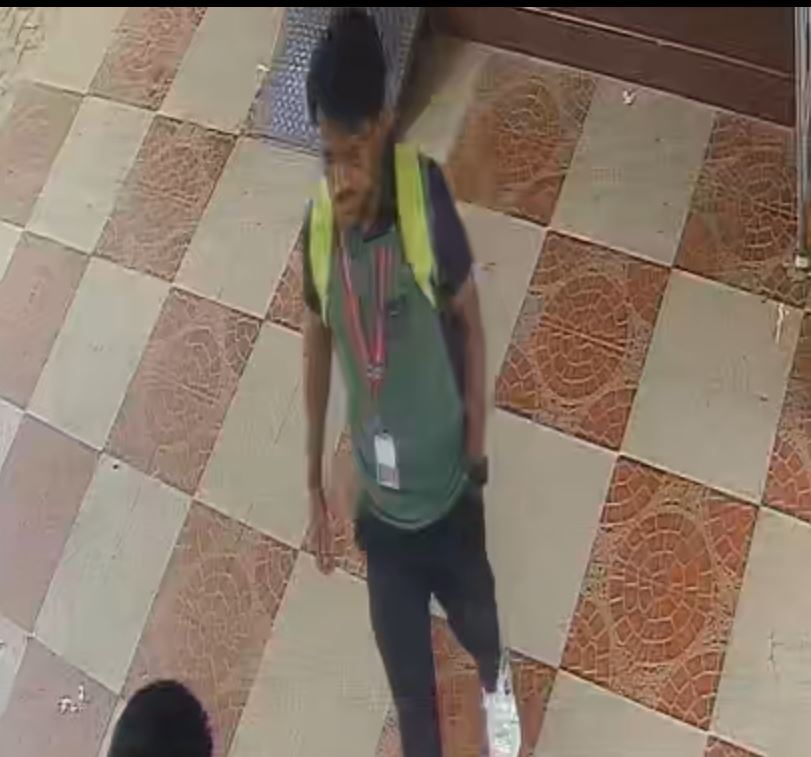intruder: (269, 4, 553, 757)
